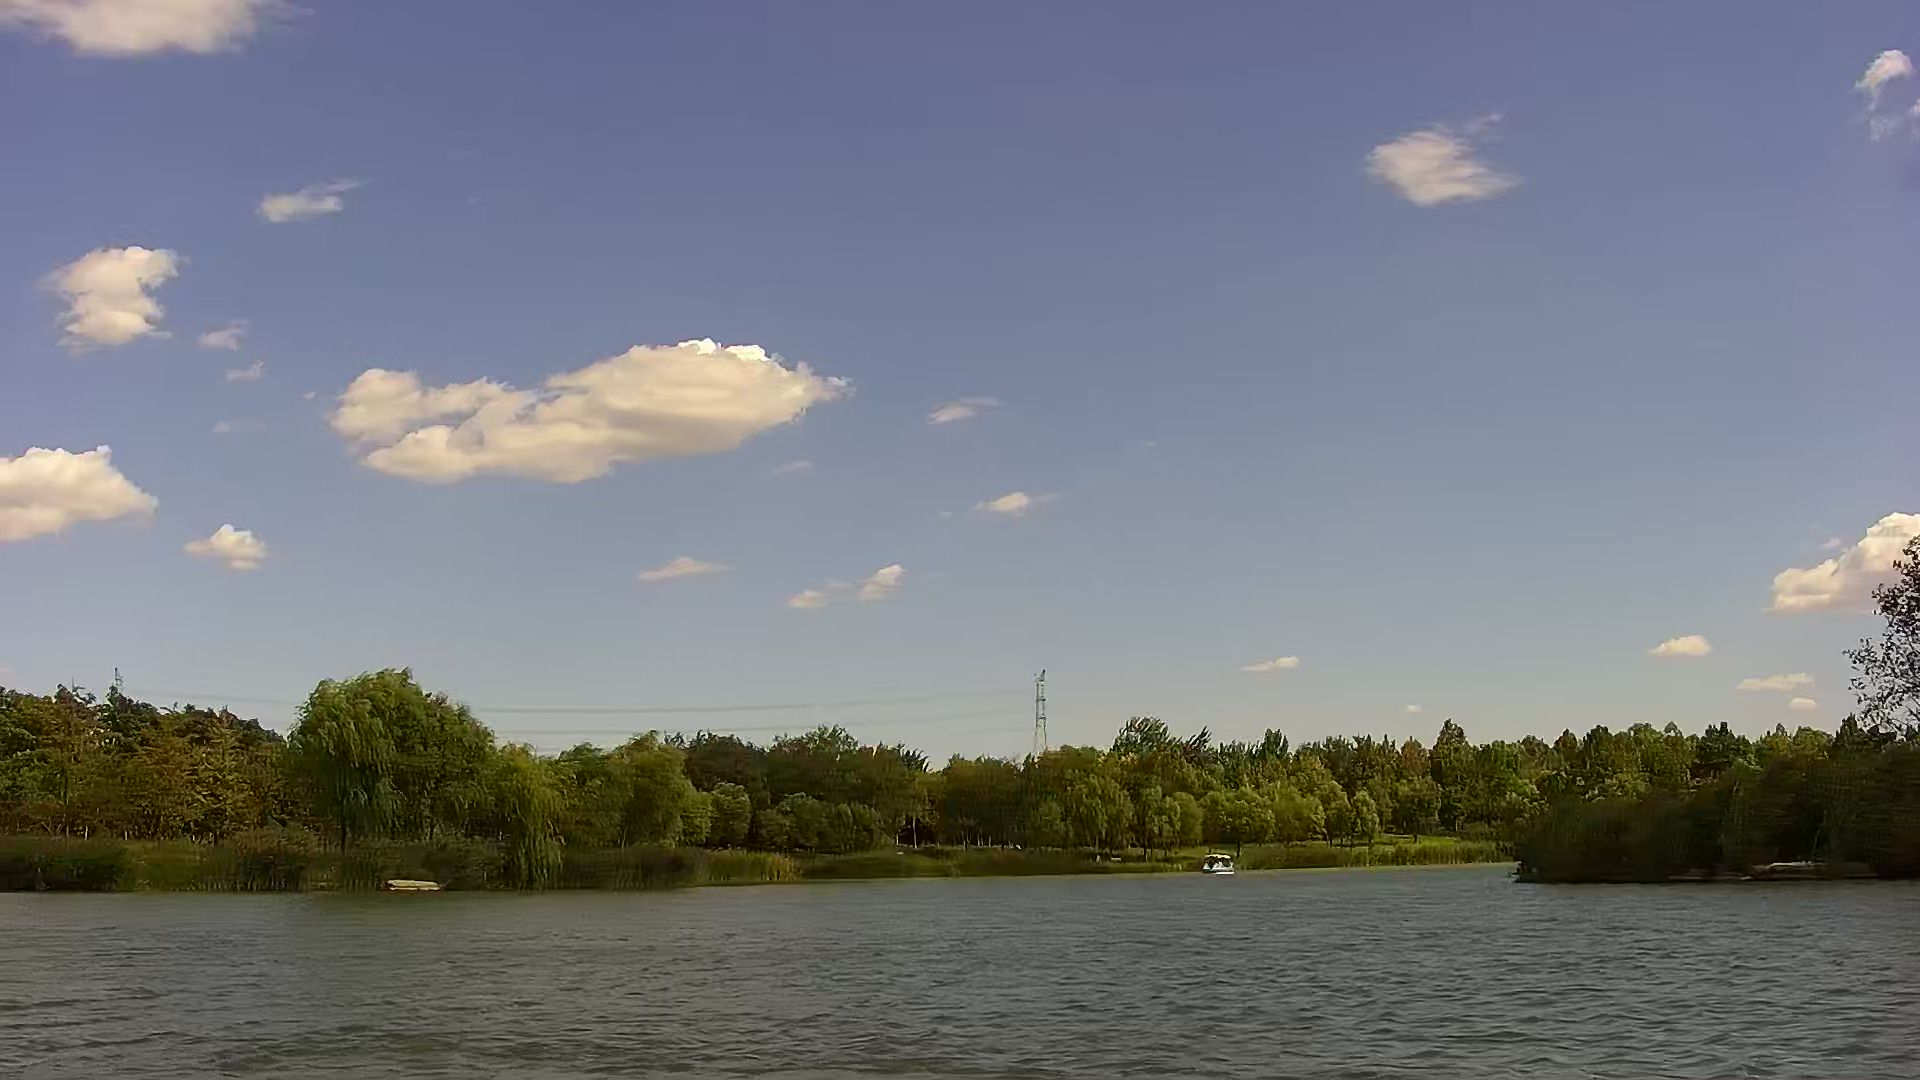boat: (1203, 847, 1236, 874)
rock: (1760, 860, 1828, 881), (385, 876, 444, 889)
